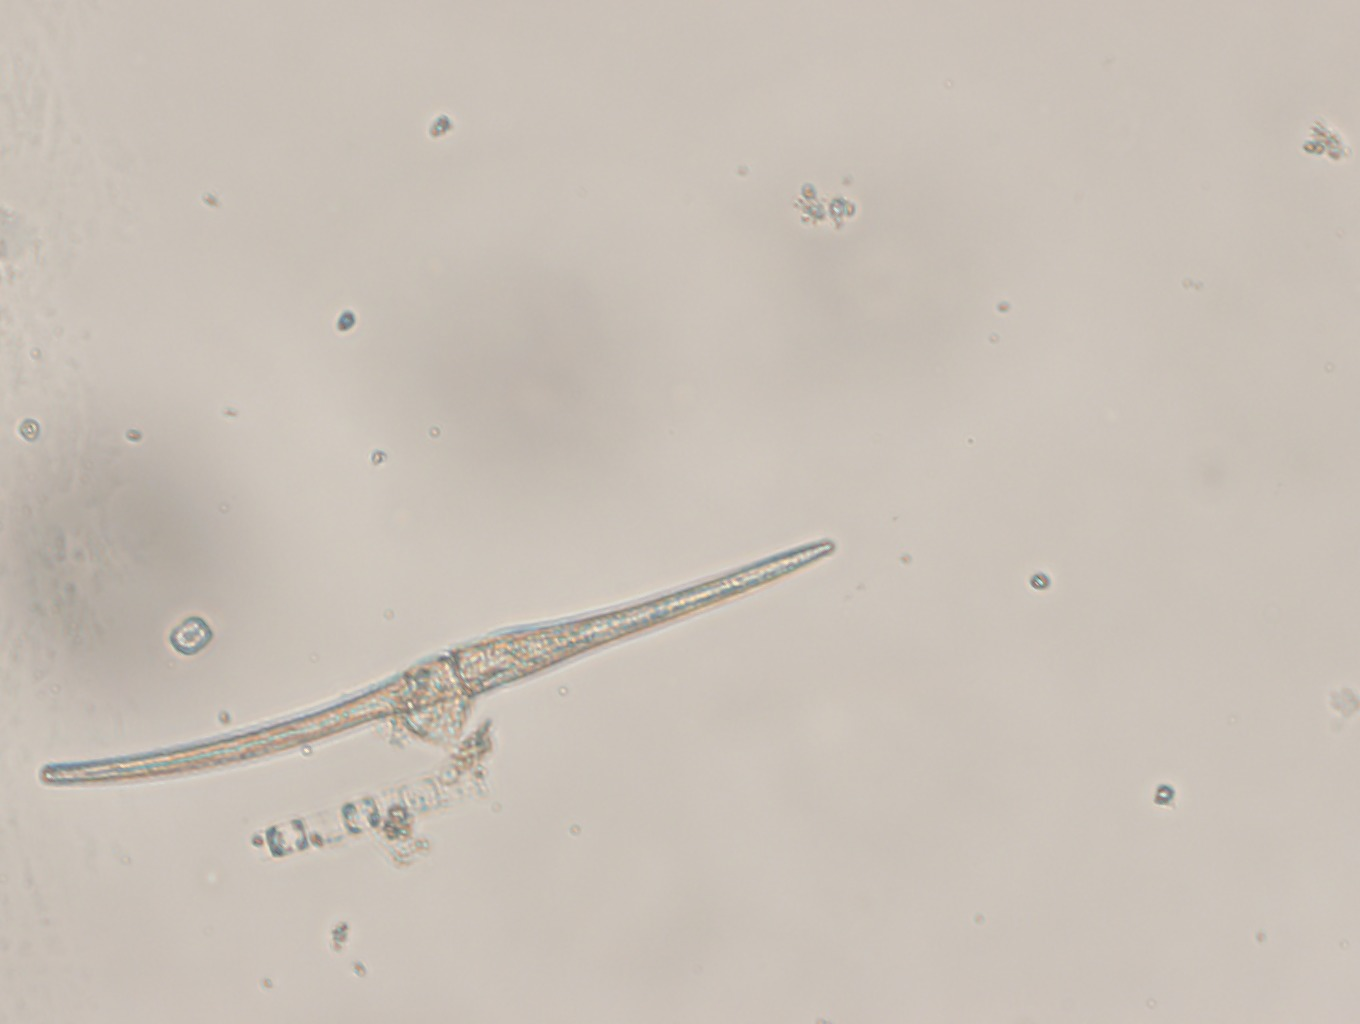ceratium fusus: (28, 530, 843, 792)
